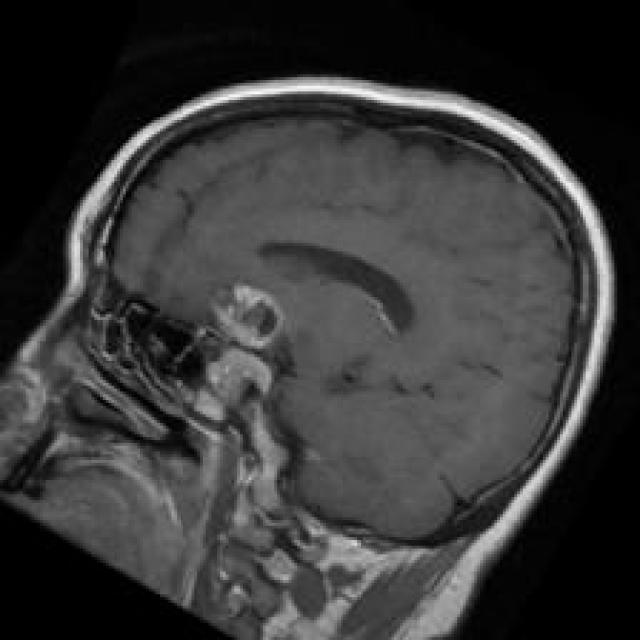pituitary_tumor: (180, 267, 303, 429)
